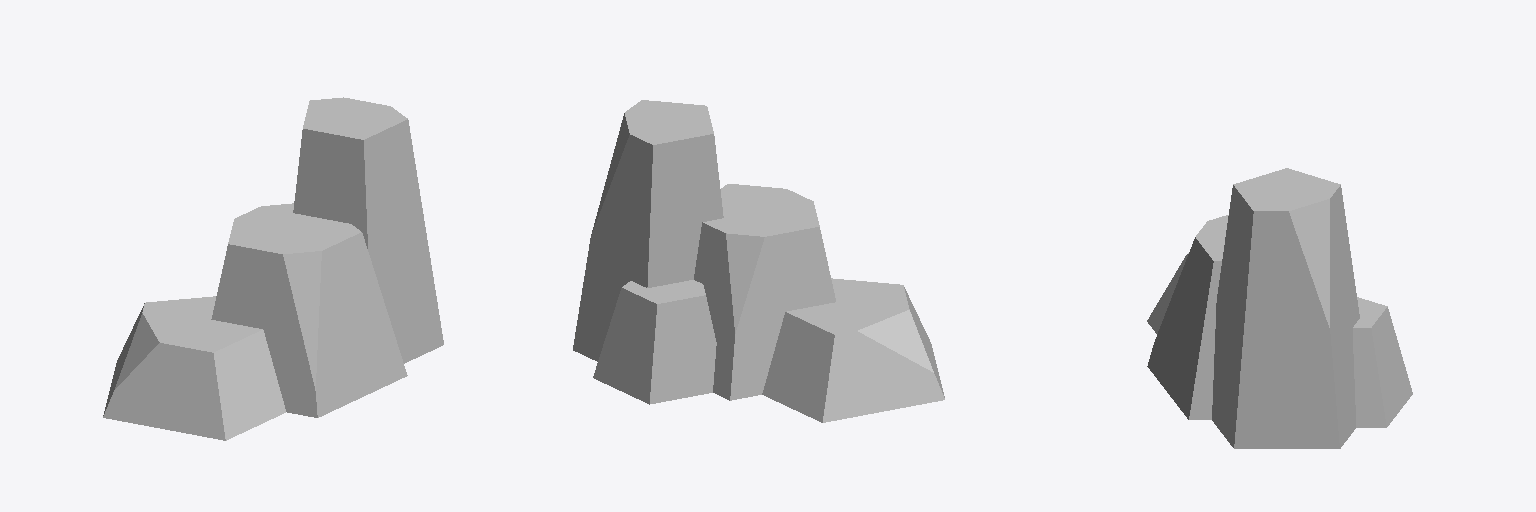
Rendered from rockC.obj.
3 renders of one model, left to right at view 1: azimuth 30°, elevation 25°; view 2: azimuth 150°, elevation 25°; view 3: azimuth 270°, elevation 25°, orthographic.
Parts seen in each view (by area): view 1: rockC; view 2: rockC; view 3: rockC.
Boxes of the visible parts, box(x1,y1,x2,y2) form: rockC: box(103, 97, 443, 440); rockC: box(573, 100, 944, 422); rockC: box(1147, 168, 1412, 448).
Size of the model in its own units: 0.7837 by 0.51 by 0.5468.